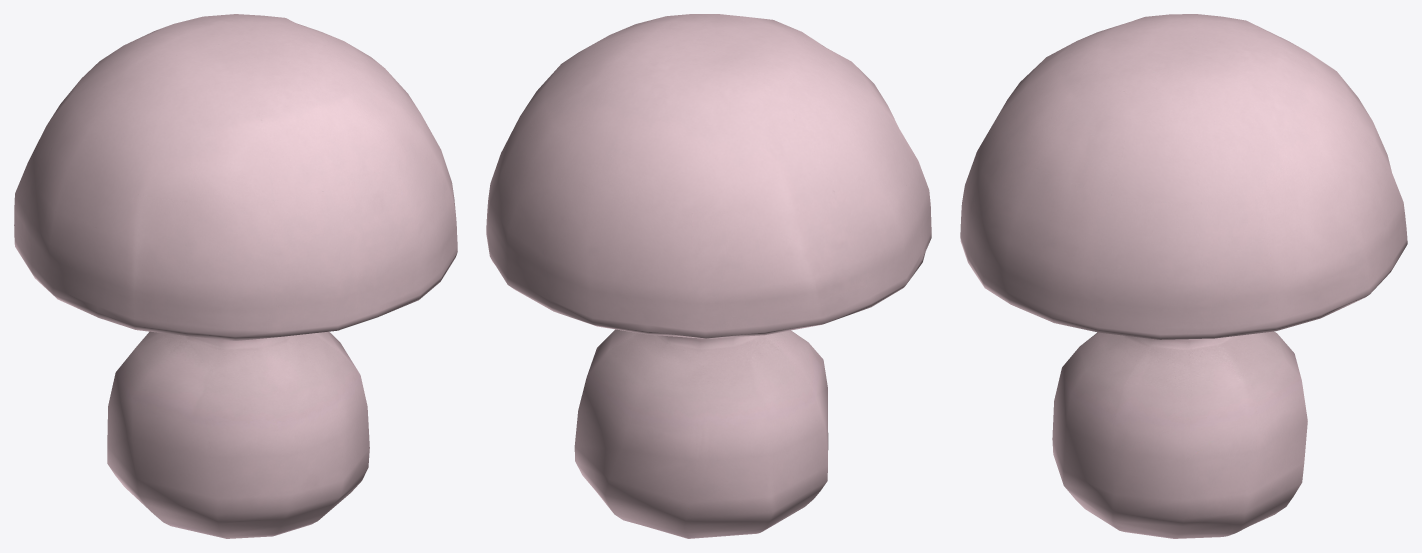
The model's file is lamp_table_c2.glb.
3 renders of one model, left to right at view 1: azimuth 30°, elevation 25°; view 2: azimuth 150°, elevation 25°; view 3: azimuth 270°, elevation 25°, orthographic.
Size of the model in its own units: 1.75 by 2 by 1.77.
Materials: 1 (1 with a texture image).
